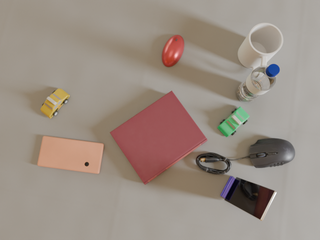book: (110, 91, 207, 185)
bottle: (237, 64, 280, 103)
cup: (238, 23, 283, 71)
mouse: (245, 138, 295, 168), (162, 35, 184, 67)
phone: (38, 136, 104, 174), (225, 177, 276, 221)
toy_car: (218, 107, 249, 137), (41, 89, 70, 118)
